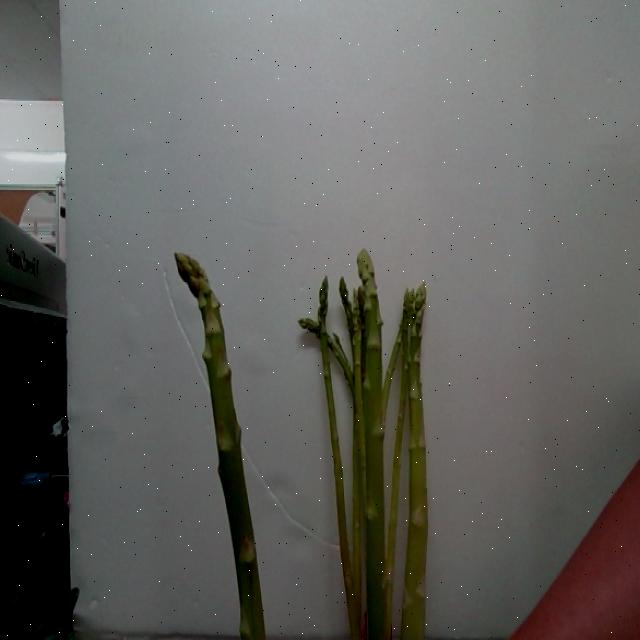aspargus: (173, 254, 265, 640), (358, 250, 389, 640)
